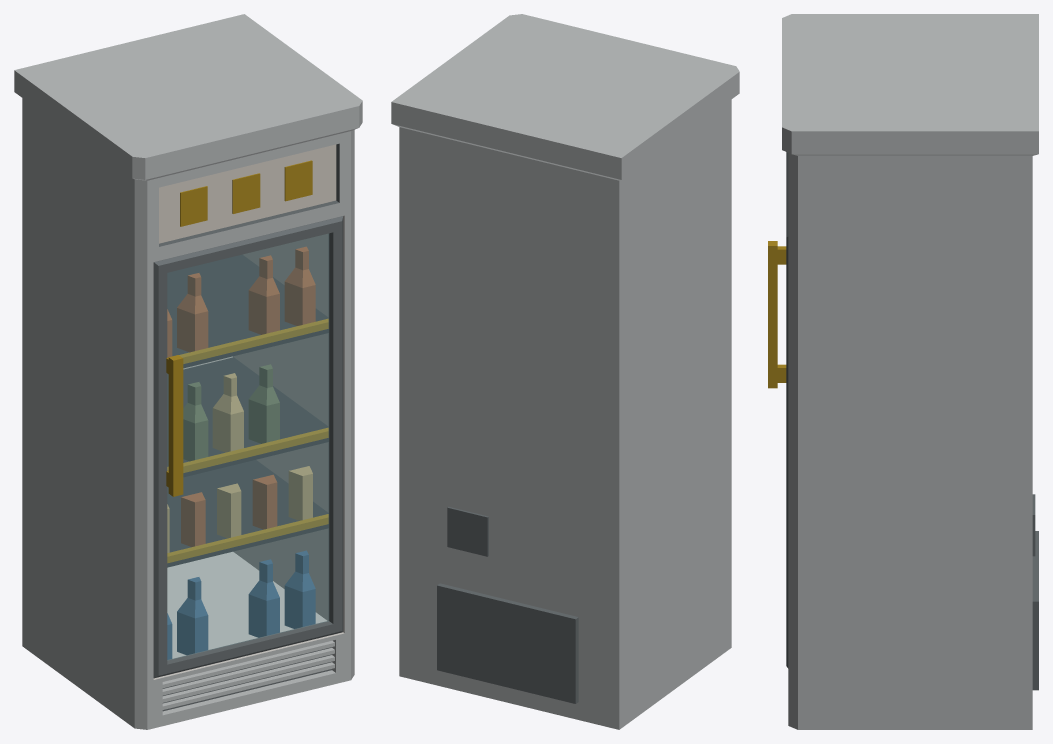
File: glass-door-drinks-fridge-21f077.glb
3 renders of one model, left to right at view 1: azimuth 30°, elevation 25°; view 2: azimuth 150°, elevation 25°; view 3: azimuth 270°, elevation 25°, orthographic. The views are drawn at different scales.
Parts seen in each view (by area): view 1: glass-door-drinks-fridge, door-r-glass, stock, door-r; view 2: glass-door-drinks-fridge; view 3: glass-door-drinks-fridge, door-r.
Boxes of the visible parts, box(x1,y1,x2,y2) form: glass-door-drinks-fridge: box(14, 14, 362, 729); door-r-glass: box(167, 234, 328, 659); stock: box(167, 246, 315, 659); door-r: box(153, 216, 343, 678); glass-door-drinks-fridge: box(391, 14, 739, 729); glass-door-drinks-fridge: box(782, 14, 1038, 729); door-r: box(768, 152, 788, 668).
Bounding box in the file's own units: 0.796 × 1.9 × 0.776.
